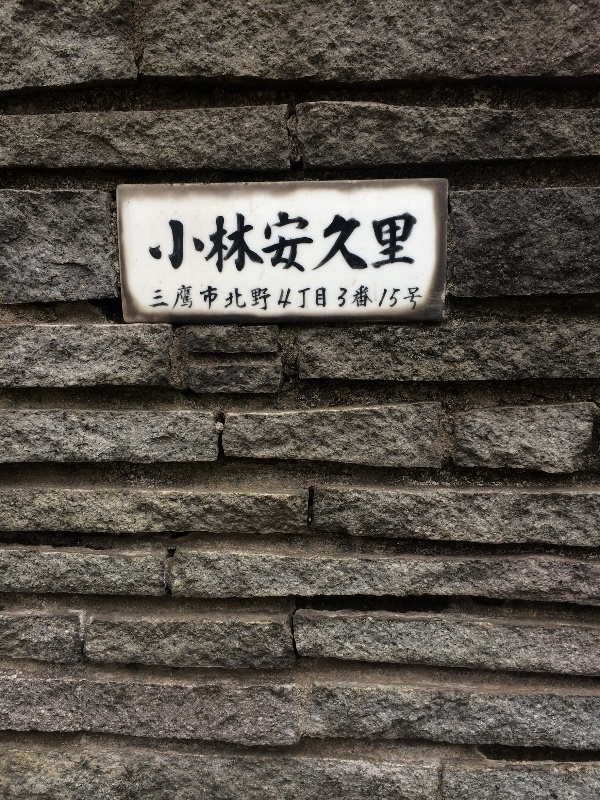text: (401, 213, 417, 275), (161, 213, 176, 275), (177, 213, 192, 275), (193, 213, 208, 275), (209, 213, 224, 275), (225, 213, 240, 275), (241, 213, 256, 275), (257, 213, 272, 275), (273, 213, 288, 275), (289, 213, 304, 275), (305, 213, 320, 275), (321, 213, 336, 275), (337, 213, 352, 275), (353, 213, 368, 275), (369, 213, 384, 275), (385, 213, 400, 275), (150, 213, 160, 275), (161, 282, 176, 317), (177, 282, 192, 317), (193, 282, 208, 317), (209, 282, 224, 317), (225, 282, 240, 317), (241, 282, 256, 317), (257, 282, 272, 317), (273, 282, 288, 317), (289, 282, 304, 317), (305, 282, 320, 317), (321, 282, 336, 317), (337, 282, 352, 317), (353, 282, 368, 317), (369, 282, 384, 317), (385, 282, 400, 317), (401, 282, 416, 317), (153, 282, 160, 317), (417, 282, 421, 317)
